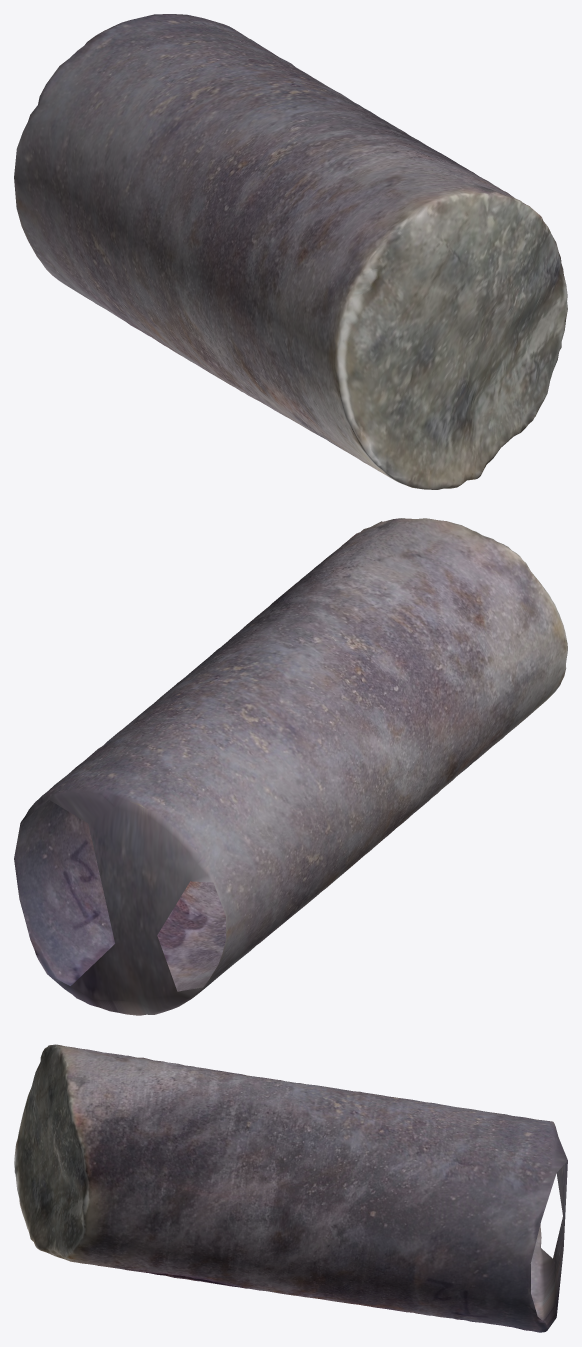
File: PECLD07756 T2.glb
The picture shows the model from 3 angles, top to bottom: view 1: azimuth 30°, elevation 25°; view 2: azimuth 150°, elevation 25°; view 3: azimuth 270°, elevation 25°; orthographic projection. The views are drawn at different scales.
Parts seen in each view (by area): view 1: baked_mesh; view 2: baked_mesh; view 3: baked_mesh.
Part boxes in pixels (x1=…): baked_mesh: x1=14, y1=14, x2=567, y2=489; baked_mesh: x1=14, y1=518, x2=567, y2=1015; baked_mesh: x1=14, y1=1044, x2=567, y2=1332.
Bounding box in the file's own units: 0.2853 × 0.3158 × 0.6311.
1 material, 1 textured.
